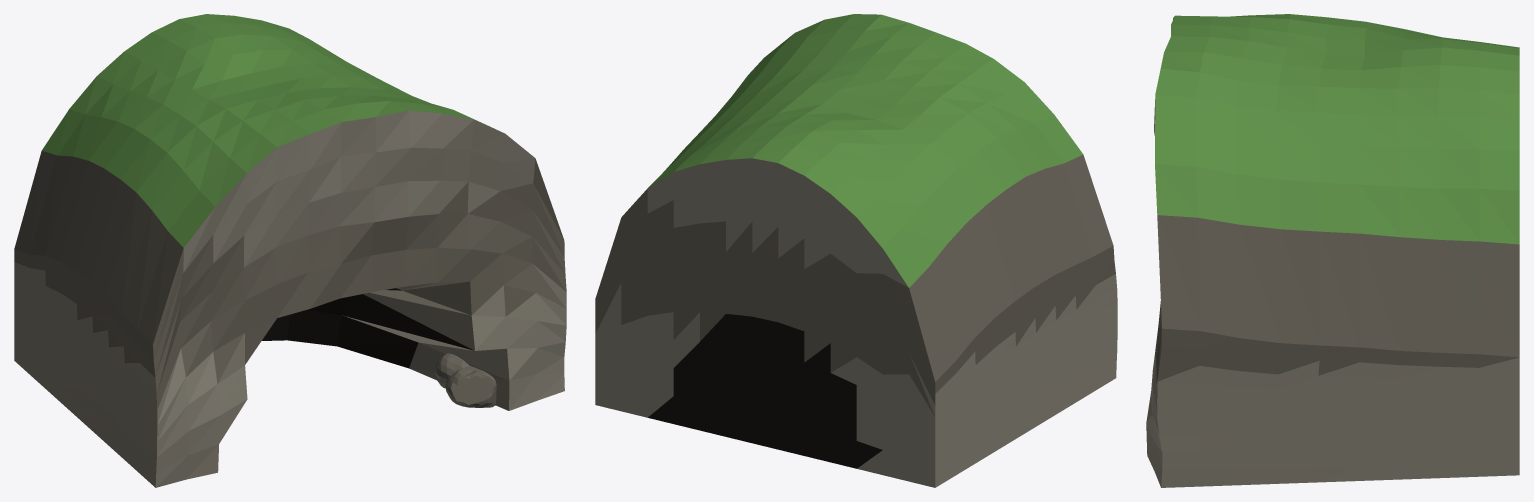
File: poi-cave-mouth.glb
3 views of the same model, side by side, from view 1: azimuth 30°, elevation 25°; view 2: azimuth 150°, elevation 25°; view 3: azimuth 270°, elevation 25° (orthographic). The views are drawn at different scales.
Parts seen in each view (by area): view 1: Body_Stone, Body_StoneBand, Body_Top, Body_CaveDark; view 2: Body_StoneBand, Body_Top, Body_Stone, Body_CaveDark; view 3: Body_Top, Body_StoneBand, Body_Stone.
Part boxes in pixels (x1,y1,x2,y2): Body_Stone: (14,110,566,487); Body_StoneBand: (14,151,566,409); Body_Top: (42,14,496,247); Body_CaveDark: (262,288,473,368); Body_StoneBand: (595,154,1115,416); Body_Top: (631,14,1083,287); Body_Stone: (595,158,1117,487); Body_CaveDark: (648,314,882,468); Body_Top: (1155,14,1519,244); Body_StoneBand: (1154,215,1519,398); Body_Stone: (1146,16,1519,487).
Size of the model in its own units: 4 by 3 by 3.
